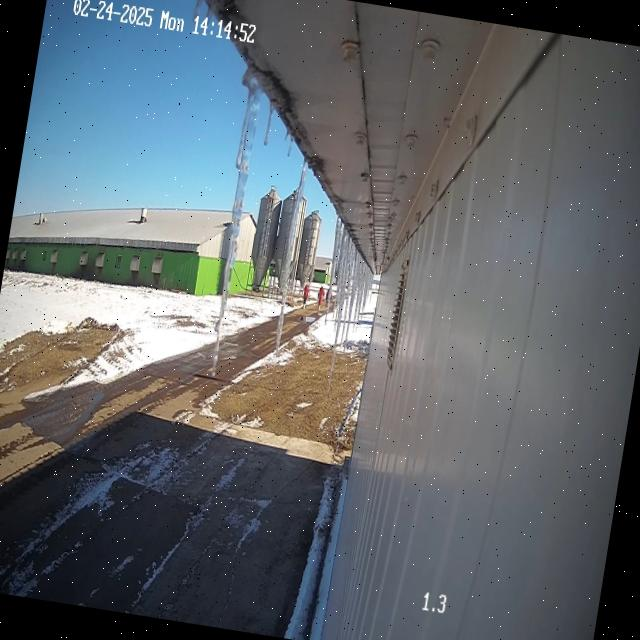Red uniform: (303, 284, 310, 306), (318, 286, 324, 308)
